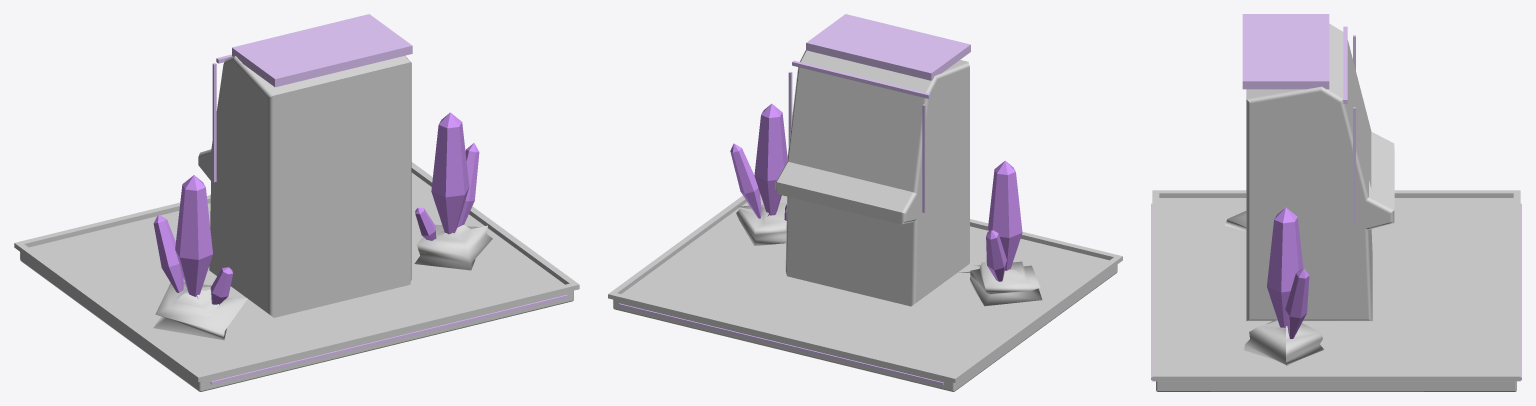
Rendered from ChaosShopTerminal.glb.
The picture shows the model from 3 angles, left to right: view 1: azimuth 30°, elevation 25°; view 2: azimuth 150°, elevation 25°; view 3: azimuth 270°, elevation 25°; orthographic projection. The views are drawn at different scales.
Visible parts, largest first — view 1: Body, Crystal, Glow; view 2: Body, Glow, Crystal; view 3: Body, Glow, Crystal.
Boxes of the visible parts, x1,y1,x2,y2 form: Body: (14,56,579,391); Crystal: (153,112,479,304); Glow: (210,14,567,384); Body: (608,50,1122,391); Glow: (619,14,970,385); Crystal: (730,103,1022,281); Body: (1152,23,1520,391); Glow: (1151,14,1521,380); Crystal: (1267,207,1309,338).
Bounding box in the file's own units: 12.2 × 7.73 × 10.26.
